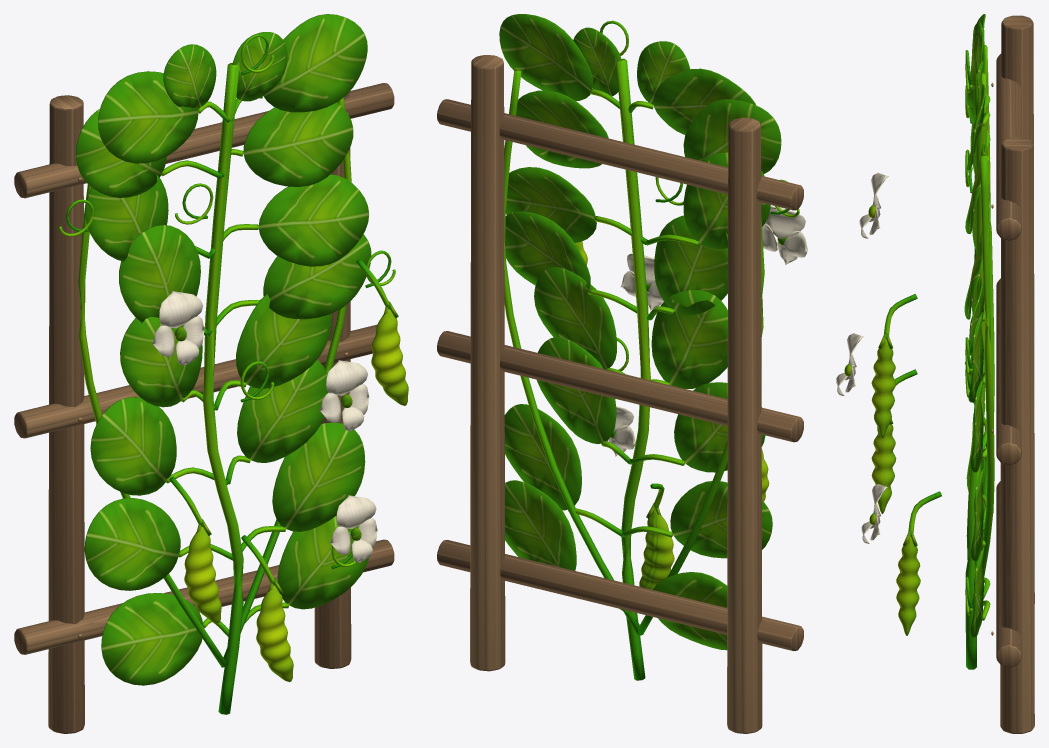
File: NP_Pea_Flowering.fbx
The picture shows the model from 3 angles, left to right: view 1: azimuth 30°, elevation 25°; view 2: azimuth 150°, elevation 25°; view 3: azimuth 270°, elevation 25°; orthographic projection. The views are drawn at different scales.
Parts seen in each view (by area): view 1: NP_Pea_Flowering; view 2: NP_Pea_Flowering; view 3: NP_Pea_Flowering.
Part boxes in pixels (left/top/right/bottom): NP_Pea_Flowering: left=14, top=14, right=408, bottom=733; NP_Pea_Flowering: left=437, top=14, right=807, bottom=733; NP_Pea_Flowering: left=836, top=14, right=1034, bottom=733.
Size of the model in its own units: 65 by 114 by 32.48.
